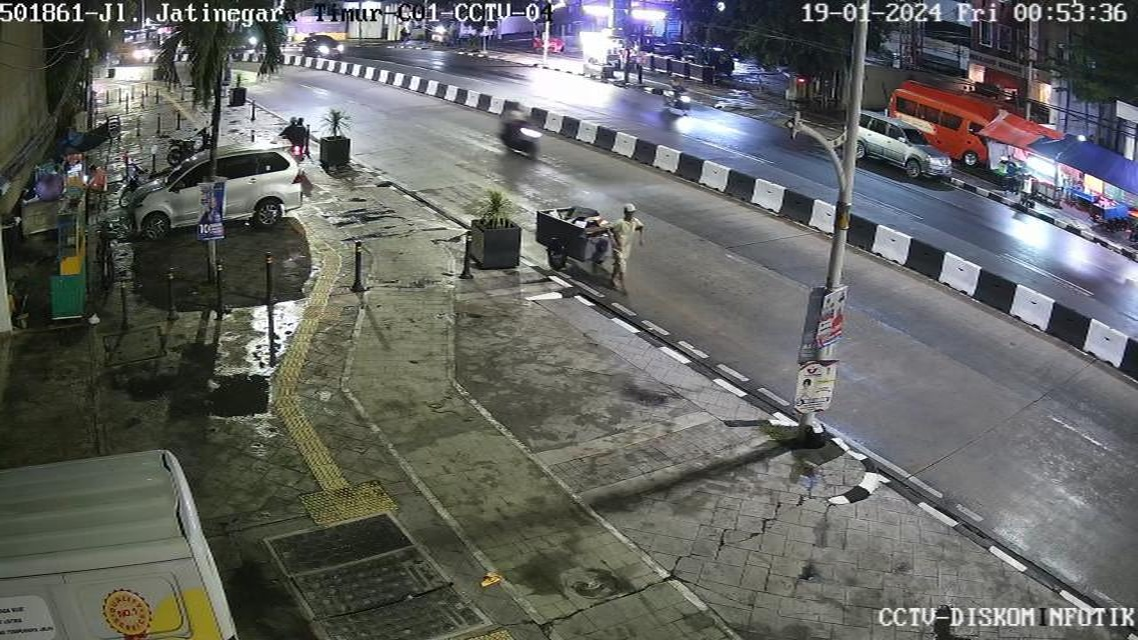Gerobak: (23, 186, 107, 335)
